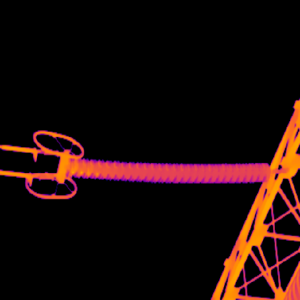insulator: (66, 156, 270, 185)
